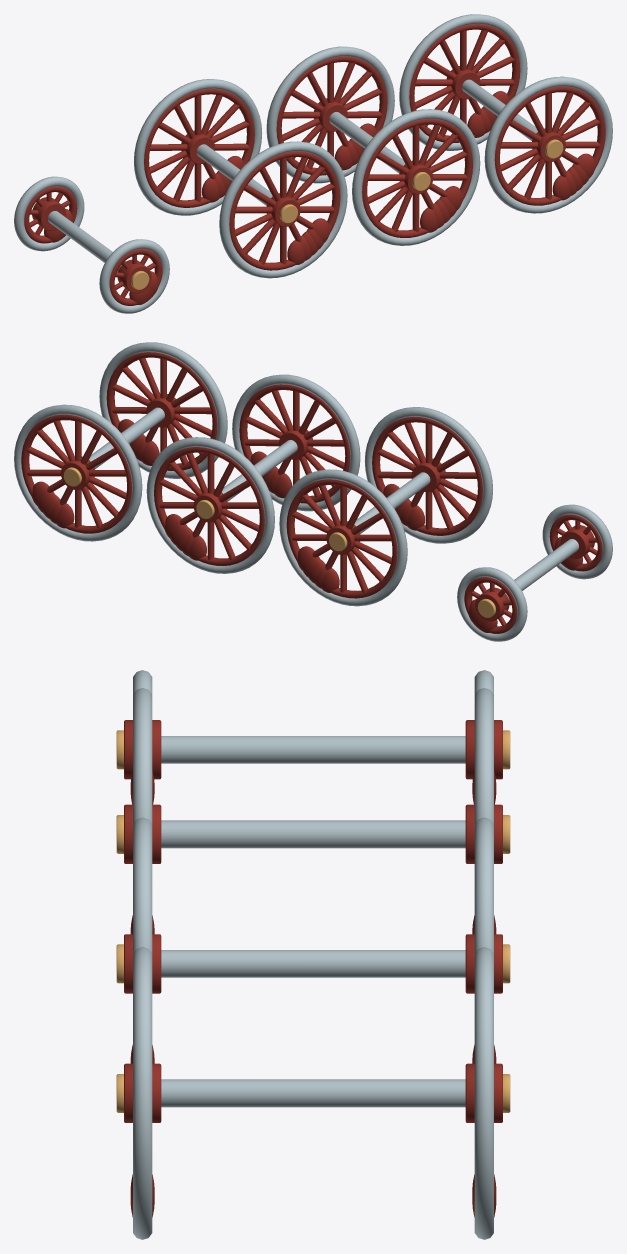
The model's file is wheels-and-axles.glb.
3 views of the same model, one above another, from view 1: azimuth 30°, elevation 25°; view 2: azimuth 150°, elevation 25°; view 3: azimuth 270°, elevation 25° (orthographic). The views are drawn at different scales.
Parts seen in each view (by area): view 1: Wheel 01 L steel tyre, Wheel 02 L steel tyre, Wheel 03 L steel tyre, Wheel 01 R steel tyre, Wheel 03 R steel tyre, Wheel 02 R steel tyre, Wheel 01 L cast rim, Wheel 03 L cast rim, Wheel 02 L cast rim, Wheel 01 R cast rim, Wheel 04 L steel tyre, Wheel 04 R steel tyre (+16 smaller); view 2: Wheel 01 R steel tyre, Wheel 02 R steel tyre, Wheel 03 R steel tyre, Wheel 01 L steel tyre, Wheel 03 L steel tyre, Wheel 02 L steel tyre, Wheel 01 R cast rim, Wheel 03 R cast rim, Wheel 02 R cast rim, Wheel 01 L cast rim, Wheel 04 R steel tyre, Wheel 04 L steel tyre (+16 smaller); view 3: Axle 1, Axle 3, Axle 2, Axle 4, Wheel 03 L steel tyre, Wheel 03 R steel tyre, Wheel 02 L steel tyre, Wheel 02 R steel tyre, Wheel 01 L steel tyre, Wheel 01 R steel tyre, Wheel 01 L hub, Wheel 01 R hub (+6 smaller).
Part boxes in pixels (<box>): Wheel 01 L steel tyre: <box>219,141,347,278</box>; Wheel 02 L steel tyre: <box>352,109,480,245</box>; Wheel 03 L steel tyre: <box>484,76,612,213</box>; Wheel 01 R steel tyre: <box>134,79,262,215</box>; Wheel 03 R steel tyre: <box>399,14,527,150</box>; Wheel 02 R steel tyre: <box>266,46,394,183</box>; Wheel 01 L cast rim: <box>229,151,340,270</box>; Wheel 03 L cast rim: <box>494,86,605,205</box>; Wheel 02 L cast rim: <box>362,119,472,237</box>; Wheel 01 R cast rim: <box>144,88,254,207</box>; Wheel 04 L steel tyre: <box>99,239,169,313</box>; Wheel 04 R steel tyre: <box>14,176,84,251</box>; Wheel 01 R steel tyre: <box>279,469,407,606</box>; Wheel 02 R steel tyre: <box>146,437,274,573</box>; Wheel 03 R steel tyre: <box>14,404,142,541</box>; Wheel 01 L steel tyre: <box>364,407,492,543</box>; Wheel 03 L steel tyre: <box>99,342,227,478</box>; Wheel 02 L steel tyre: <box>232,374,360,511</box>; Wheel 01 R cast rim: <box>286,479,397,598</box>; Wheel 03 R cast rim: <box>21,414,132,533</box>; Wheel 02 R cast rim: <box>154,447,264,565</box>; Wheel 01 L cast rim: <box>372,416,482,535</box>; Wheel 04 R steel tyre: <box>457,567,527,641</box>; Wheel 04 L steel tyre: <box>542,504,612,579</box>; Axle 1: <box>161,820,465,848</box>; Axle 3: <box>161,1079,465,1107</box>; Axle 2: <box>161,950,465,977</box>; Axle 4: <box>161,736,465,763</box>; Wheel 03 L steel tyre: <box>133,947,152,1239</box>; Wheel 03 R steel tyre: <box>474,947,493,1239</box>; Wheel 02 L steel tyre: <box>133,817,152,953</box>; Wheel 02 R steel tyre: <box>474,817,493,953</box>; Wheel 01 L steel tyre: <box>133,688,152,823</box>; Wheel 01 R steel tyre: <box>474,688,493,823</box>; Wheel 01 L hub: <box>124,804,161,863</box>; Wheel 01 R hub: <box>465,804,502,863</box>.
Size of the model in its own units: 6.37 by 1.58 by 2.12.
